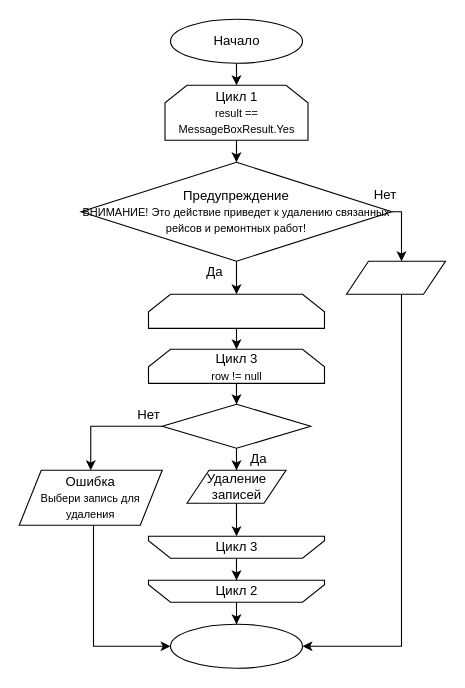
Some shapes in this 465 by 688 pixel diagram are drawn without their labels. The box of each missing label's shape, as (x1, y1, x2, y2) in pixels:
Возврат: (345, 260, 446, 294)
Запись выбрана: (161, 403, 311, 448)
Конец: (169, 623, 302, 668)
Цикл 2 result == MessageBoxResult.Yes: (147, 293, 324, 328)
